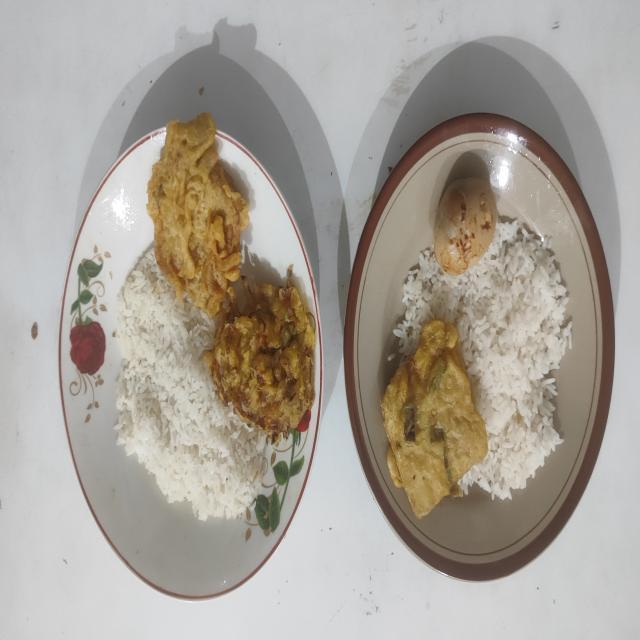nasi_putih: (394, 220, 572, 500), (115, 250, 266, 520)
